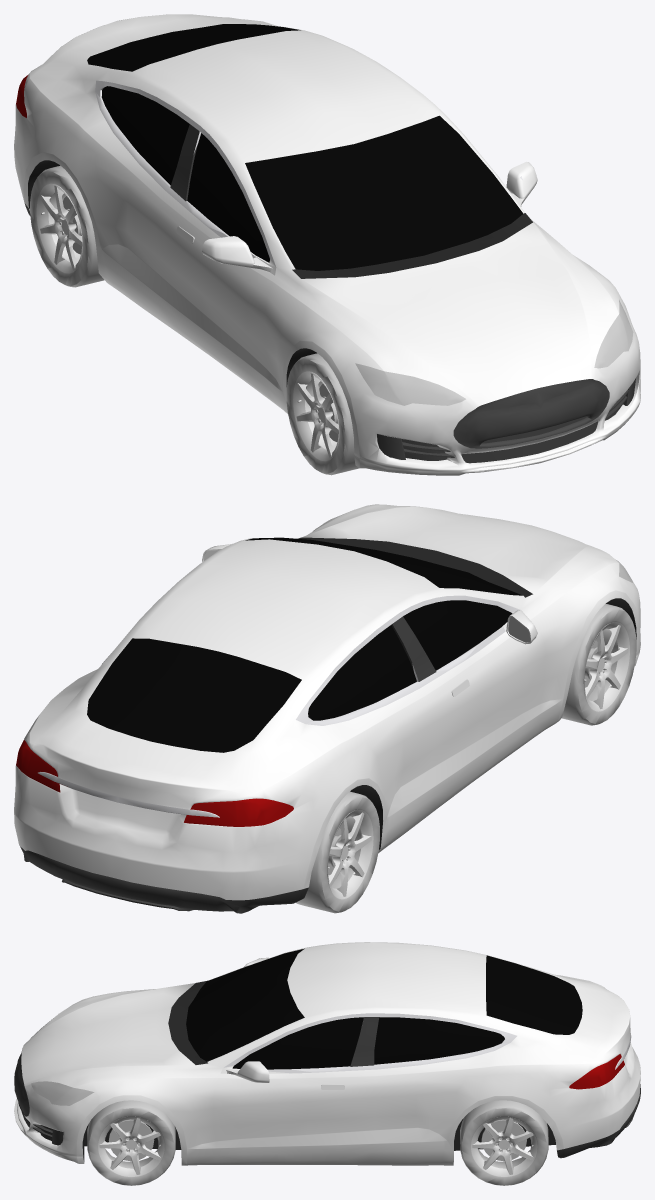
The model's file is Tesla Model S.fbx.
The picture shows the model from 3 angles, top to bottom: view 1: azimuth 30°, elevation 25°; view 2: azimuth 150°, elevation 25°; view 3: azimuth 270°, elevation 25°; orthographic projection. The views are drawn at different scales.
Visible parts, largest first — view 1: Body_0, glass_0, Black_part_0, generic_wheel_1.003, generic_wheel_1.002, glass_far_0; view 2: Body_0, glass_0, Black_part_0, generic_wheel_1.002, generic_wheel_1.003, glass_rear_0; view 3: Body_0, glass_0, Black_part_0, generic_wheel_1.001, generic_wheel_1.000, glass_far_0, glass_rear_0.
Boxes of the visible parts, box(x1,y1,x2,y2) form: Body_0: box(14, 14, 640, 475); glass_0: box(87, 24, 523, 270); Black_part_0: box(24, 80, 635, 463); generic_wheel_1.003: box(286, 353, 359, 475); generic_wheel_1.002: box(30, 165, 104, 287); glass_far_0: box(355, 299, 633, 405); Body_0: box(14, 504, 640, 900); glass_0: box(87, 537, 522, 752); Black_part_0: box(19, 537, 636, 913); generic_wheel_1.002: box(296, 791, 379, 913); generic_wheel_1.003: box(562, 603, 636, 725); glass_rear_0: box(16, 740, 293, 826); Body_0: box(14, 942, 640, 1165); glass_0: box(186, 948, 582, 1069); Black_part_0: box(14, 957, 640, 1161); generic_wheel_1.001: box(460, 1100, 548, 1185); generic_wheel_1.000: box(87, 1100, 175, 1185); glass_far_0: box(31, 1018, 94, 1105); glass_rear_0: box(569, 1054, 624, 1089).
Bounding box in the file's own units: 215 × 142 × 488.
